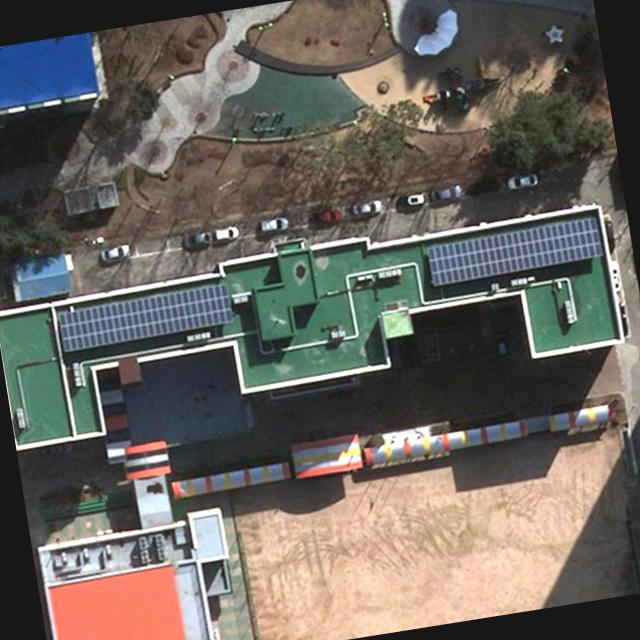solar: (425, 214, 605, 287), (54, 281, 237, 352)
